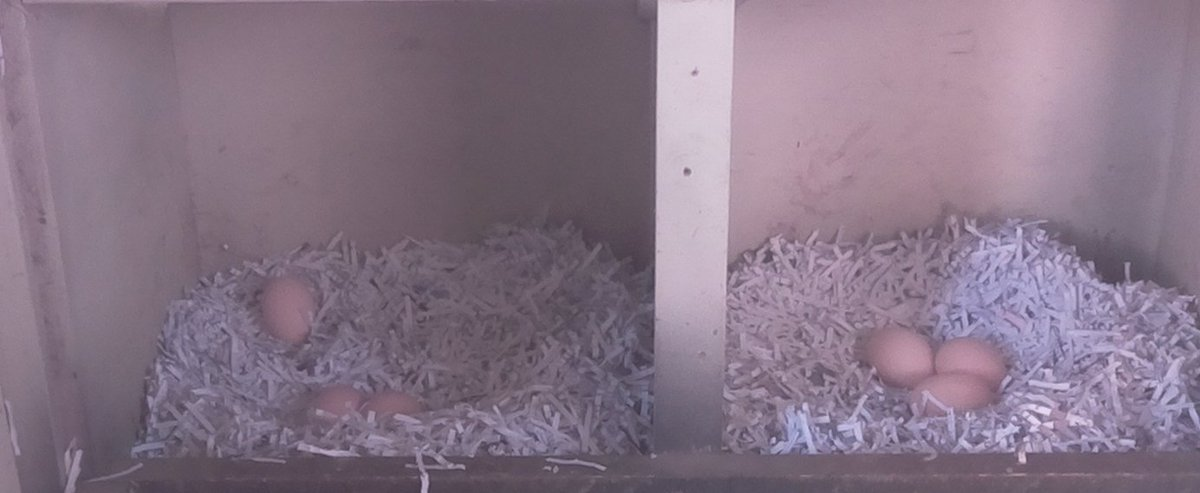egg: (863, 318, 938, 387), (258, 272, 318, 349), (931, 335, 1012, 387), (907, 374, 999, 415), (305, 383, 368, 431), (361, 388, 429, 424)
